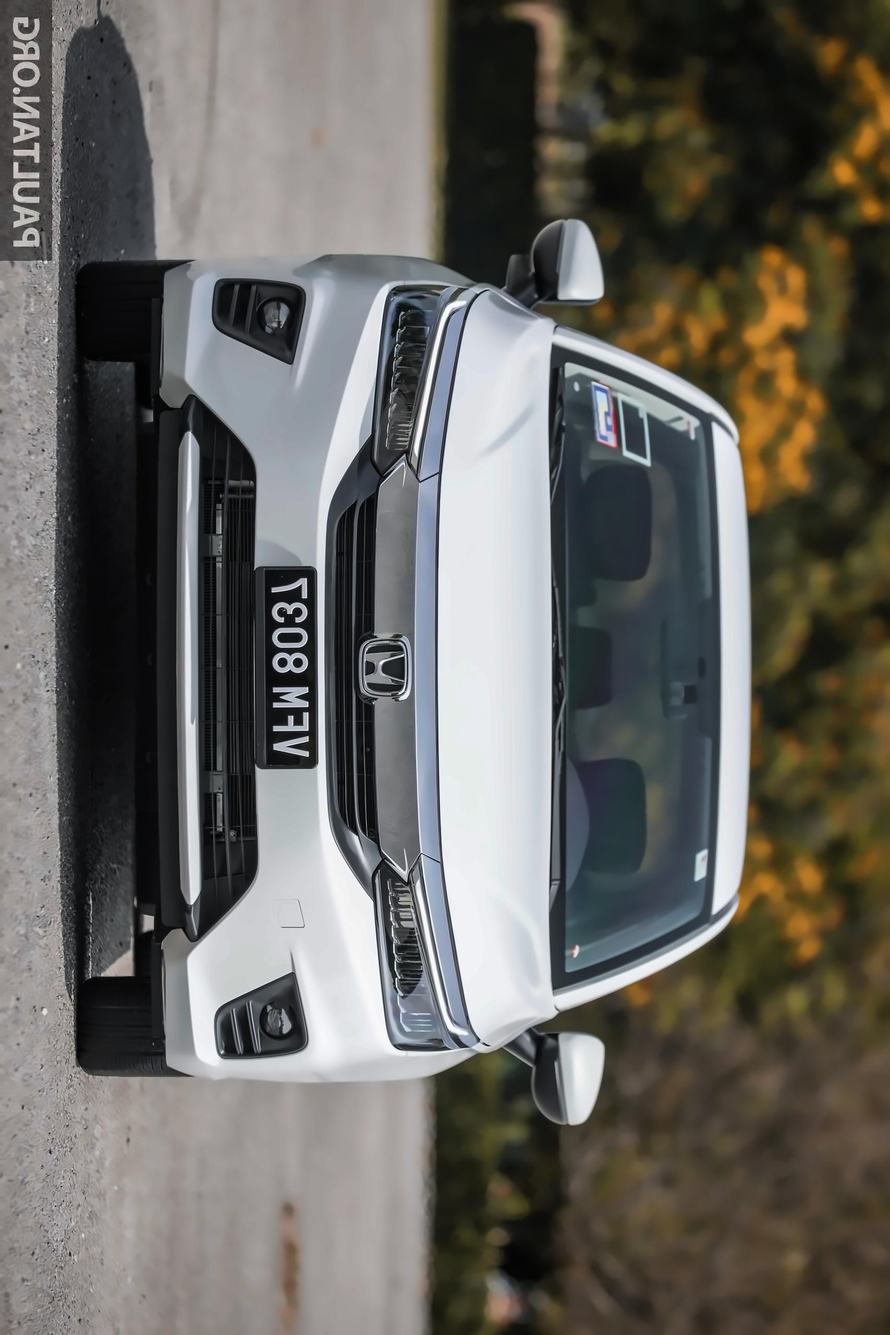Car hood: (421, 275, 573, 1059)
Front bumper: (120, 243, 393, 1106)
Headlight - -L-: (362, 842, 482, 1063)
Headlight - -R-: (365, 270, 473, 492)
Side mirror - -L-: (502, 1015, 615, 1129)
Side mirror - -R-: (494, 205, 620, 320)
